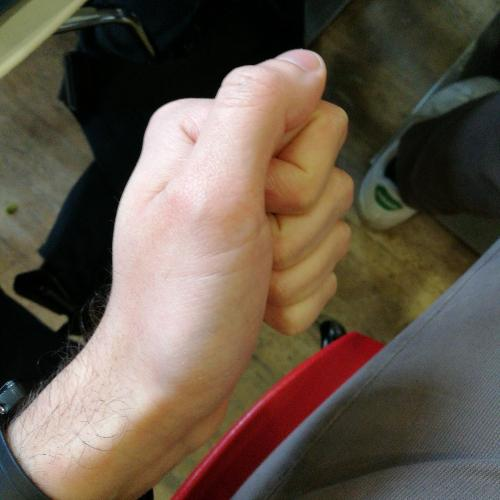rock: (104, 45, 361, 420)
